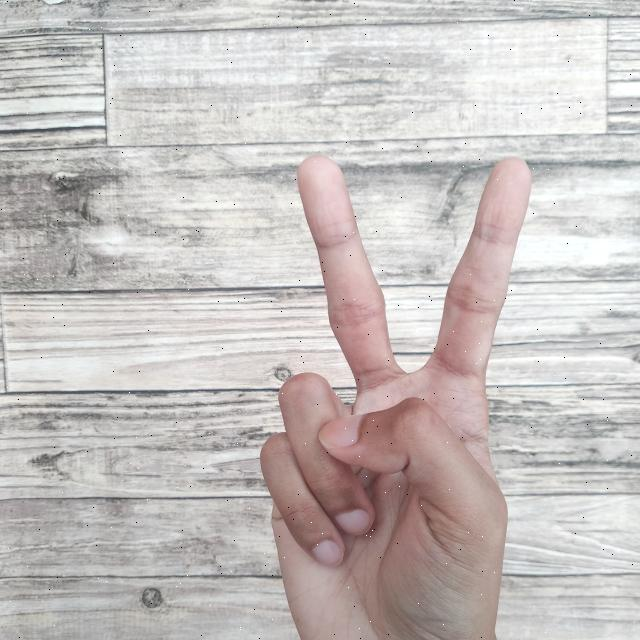V: (248, 146, 540, 640)
